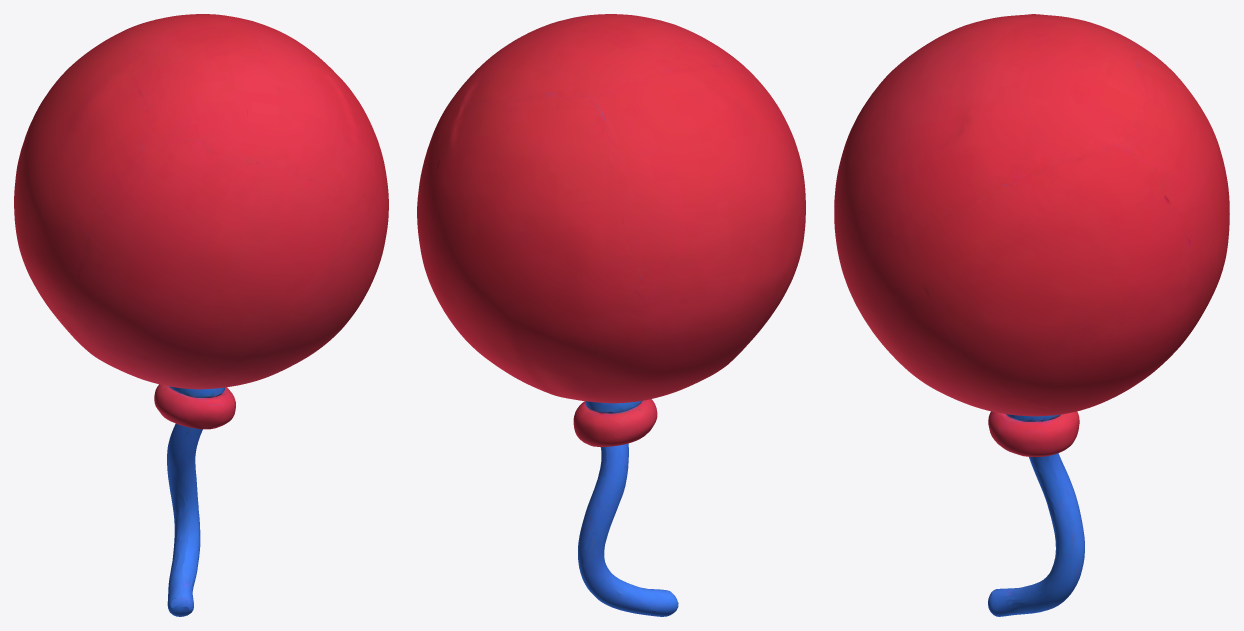
File: balloon.glb
3 renders of one model, left to right at view 1: azimuth 30°, elevation 25°; view 2: azimuth 150°, elevation 25°; view 3: azimuth 270°, elevation 25°, orthographic. The views are drawn at different scales.
Parts seen in each view (by area): view 1: Mesh; view 2: Mesh; view 3: Mesh.
Part boxes in pixels (left/top/right/bottom): Mesh: left=14, top=14, right=388, bottom=616; Mesh: left=417, top=14, right=805, bottom=616; Mesh: left=834, top=14, right=1229, bottom=616.
Size of the model in its own units: 0.5975 by 1 by 0.5977.
Materials: 1 (1 with a texture image).
